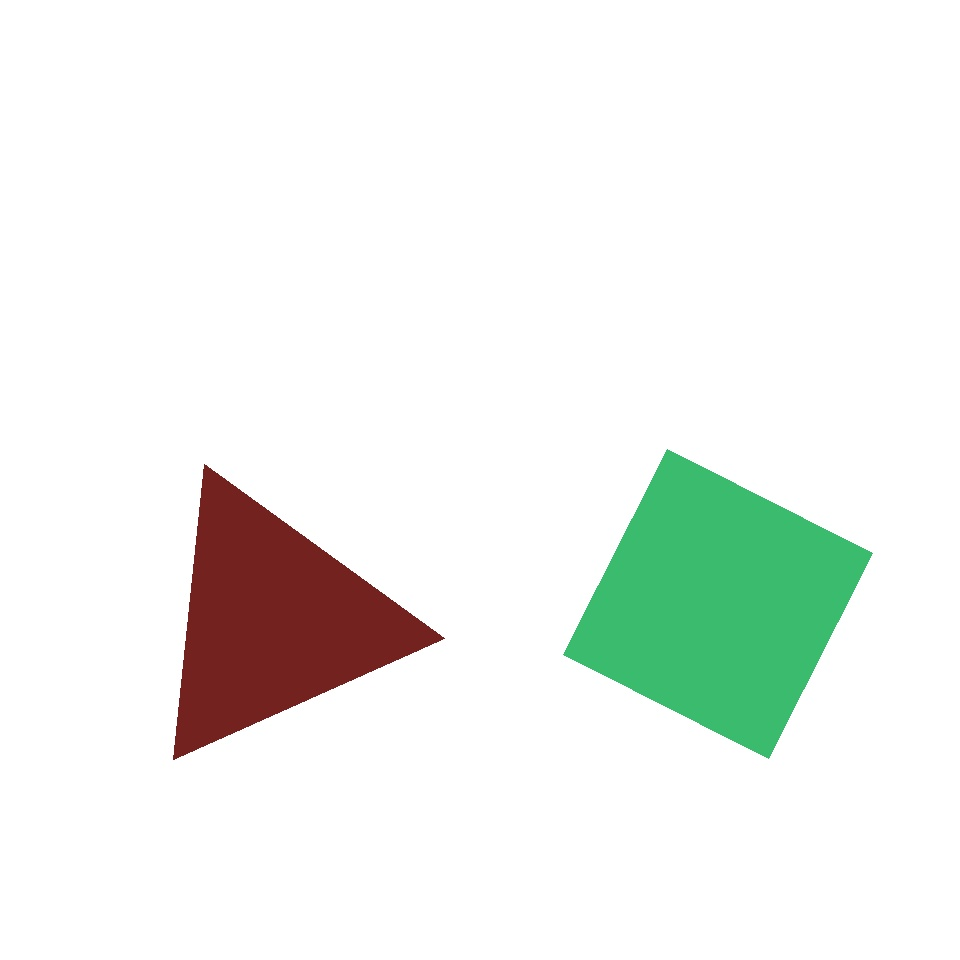circle: (138, 473, 409, 768), (157, 489, 287, 637)
square: (564, 450, 873, 758), (356, 770, 518, 933)
triangle: (276, 162, 542, 430)
